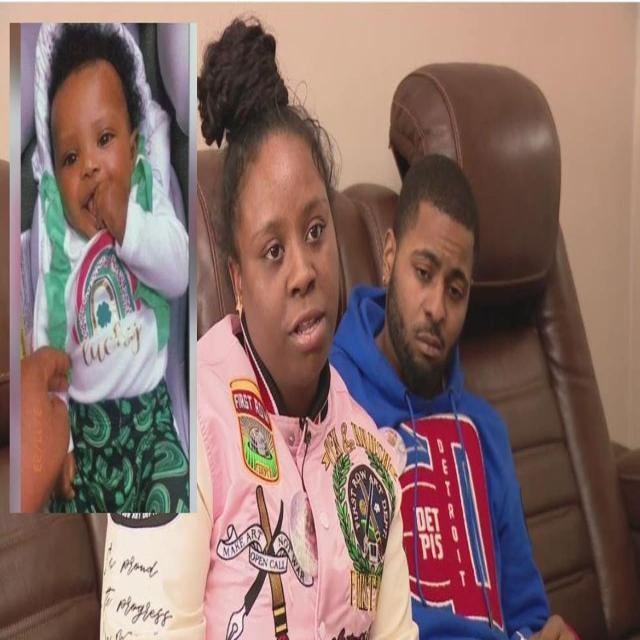adult: (102, 24, 417, 640), (328, 155, 579, 640)
child: (38, 35, 190, 512)
